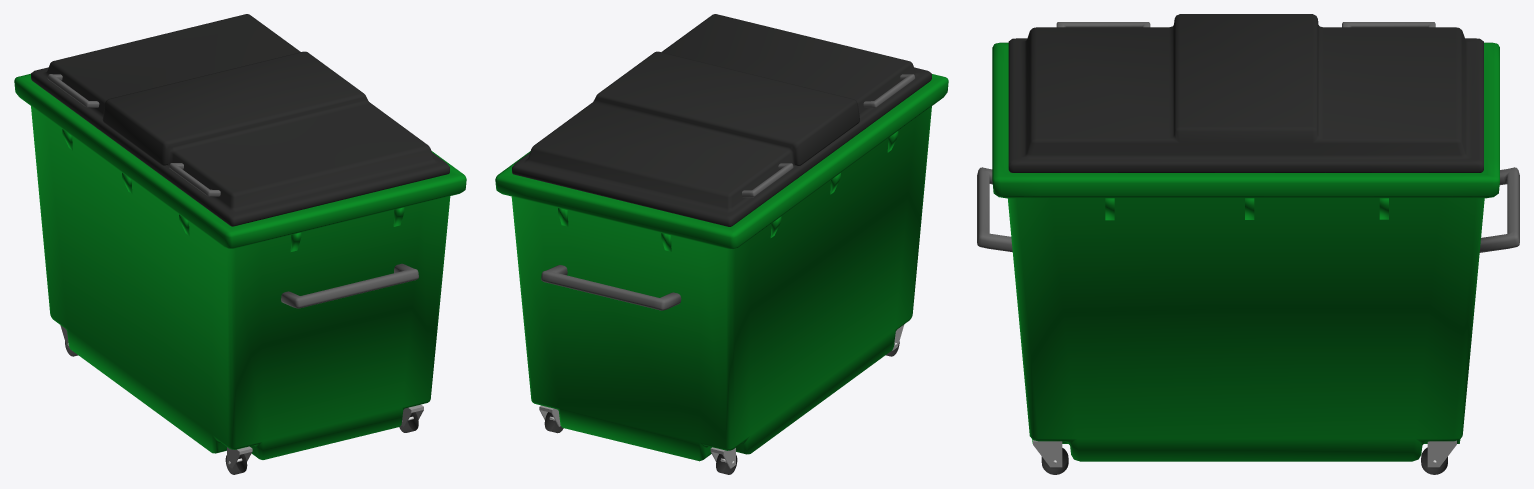
File: Garbage_Props.glb
3 views of the same model, side by side, from view 1: azimuth 30°, elevation 25°; view 2: azimuth 150°, elevation 25°; view 3: azimuth 270°, elevation 25° (orthographic). The views are drawn at different scales.
Parts seen in each view (by area): view 1: Cube.011; view 2: Cube.011; view 3: Cube.011.
Part boxes in pixels (x1,y1,x2,y2): Cube.011: [14, 14, 466, 474]; Cube.011: [495, 14, 948, 474]; Cube.011: [977, 14, 1519, 474].
Size of the model in its own units: 2.15 by 2.54 by 3.57.
